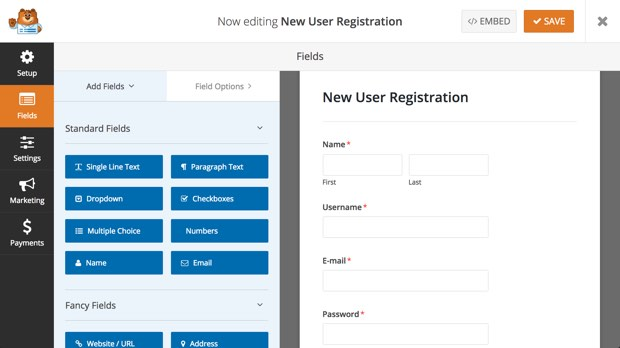button: (163, 215, 275, 248), (166, 150, 274, 183), (167, 247, 275, 280), (62, 151, 166, 184), (62, 247, 167, 279), (167, 185, 274, 214), (61, 217, 166, 246), (61, 185, 169, 212), (1, 42, 53, 85), (1, 85, 53, 127), (1, 127, 54, 168), (2, 213, 54, 252), (521, 6, 578, 37), (3, 172, 46, 207), (459, 8, 518, 33), (590, 10, 615, 31)
dropdown: (54, 72, 167, 101)
